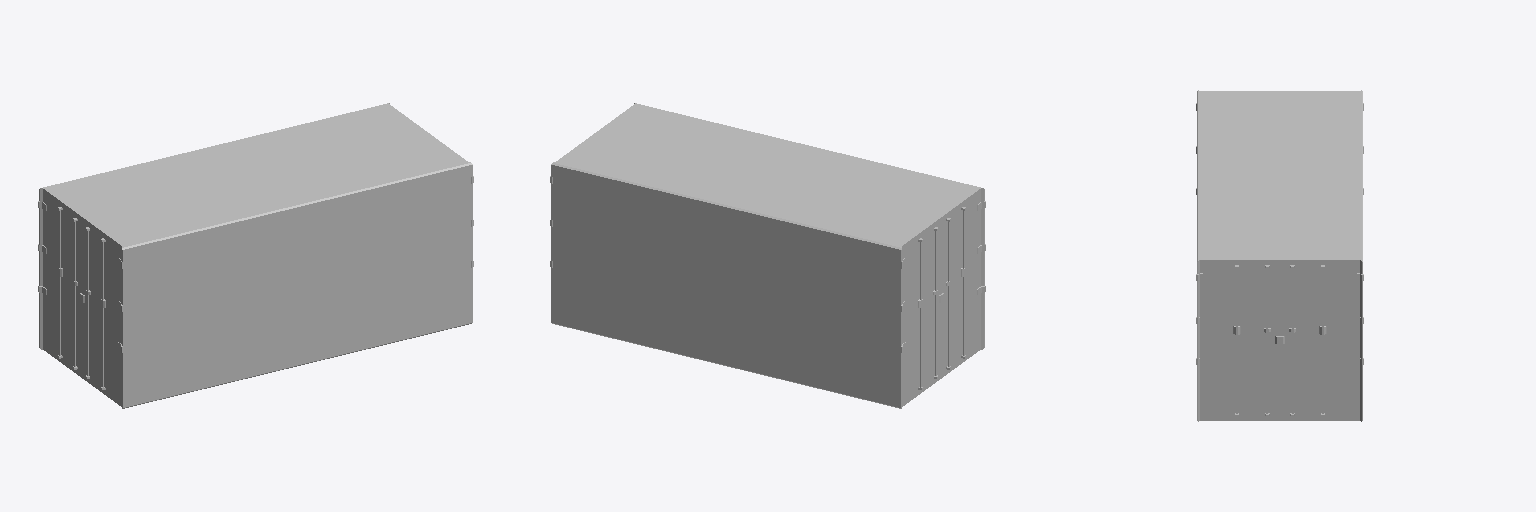
Rendered from Cargo_container_01.obj.
3 views of the same model, side by side, from view 1: azimuth 30°, elevation 25°; view 2: azimuth 150°, elevation 25°; view 3: azimuth 270°, elevation 25° (orthographic).
Parts seen in each view (by area): view 1: Cargo_container_01.001; view 2: Cargo_container_01.001; view 3: Cargo_container_01.001.
Part boxes in pixels (left/top/right/bottom): Cargo_container_01.001: left=38, top=103, right=473, bottom=408; Cargo_container_01.001: left=550, top=103, right=985, bottom=408; Cargo_container_01.001: left=1196, top=90, right=1363, bottom=421.
Size of the model in its own units: 23.78 by 10.39 by 9.78.